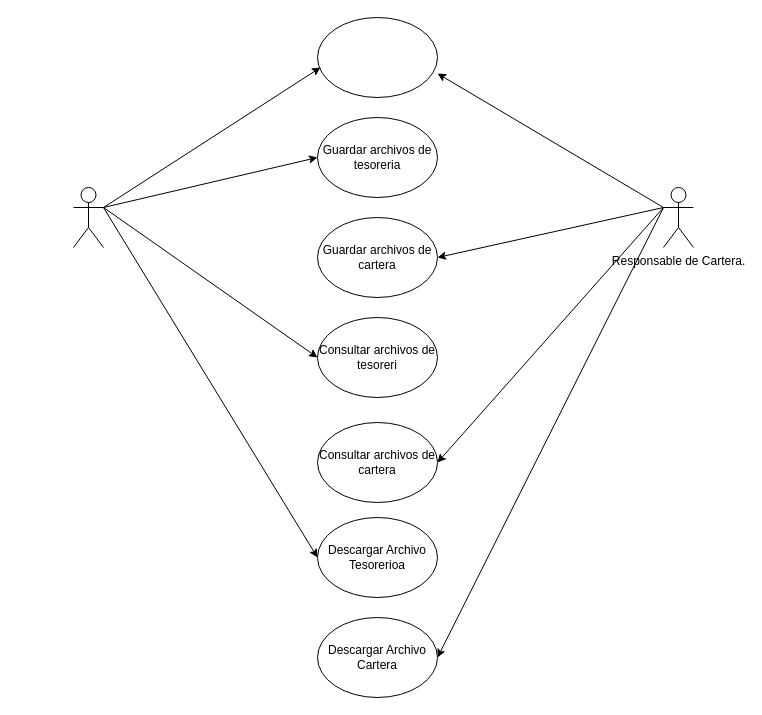
The diagram is 762 pixels wide and 715 high, and some of its shapes have lost their labels. Here are the shapes that lost their labels. From the top down, the box of each, then its label:
(316, 16, 438, 98): Login
(72, 186, 104, 248): Responsable de Tesorería.
